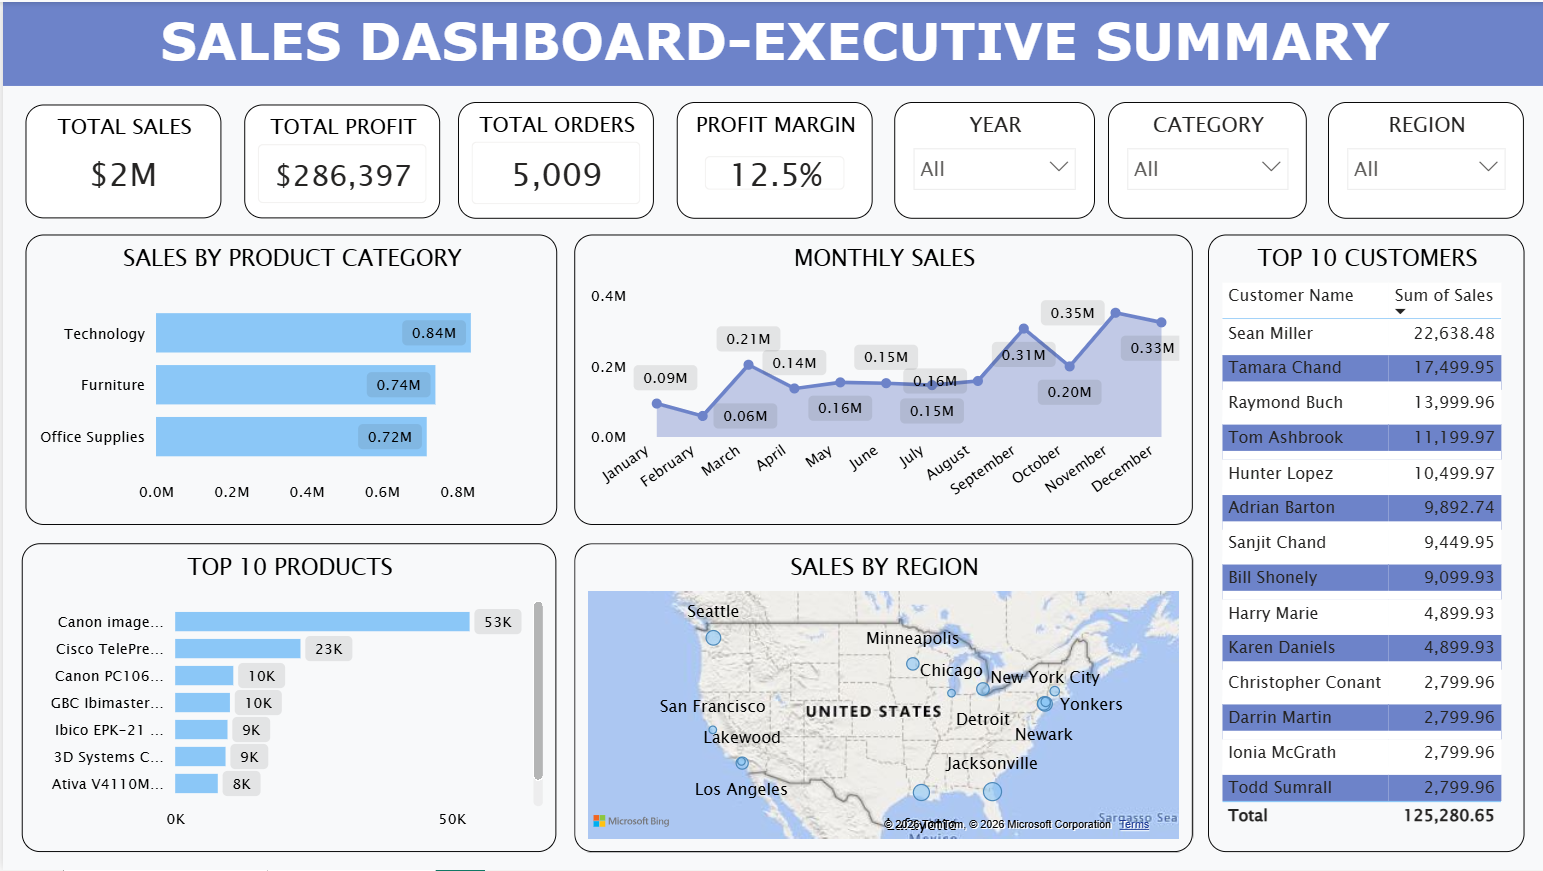

The dashboard page shown, as its layout file describes it:
{"tool":"powerbi","page":{"name":"EXECUTIVE SUMMARY","canvas":[1280,720],"ordinal":0},"visuals":[{"type":"textbox","box":[0,0,1280.2,69.8],"z":0},{"type":"barChart","title":"SALES BY PRODUCT CATEGORY","fields":{"Category":["Cleaned_Superstore.Category"],"Y":["Sum(Cleaned_Superstore.Sales)"]},"box":[18.6,193,440.7,240.7],"z":1000},{"type":"tableEx","title":"TOP 10 CUSTOMERS","fields":{"Values":["Cleaned_Superstore.Customer Name","Sum(Cleaned_Superstore.Sales)"]},"box":[998.8,193,262.8,511.6],"z":2000},{"type":"lineChart","title":"MONTHLY SALES","fields":{"Y":["Sum(Cleaned_Superstore.Sales)"],"Category":["Cleaned_Superstore.Order Date.Variation.Date Hierarchy.Month"]},"box":[473.3,193,512.8,240.7],"z":3000},{"type":"barChart","title":"TOP 10 PRODUCTS","fields":{"Y":["Sum(Cleaned_Superstore.Sales)"],"Category":["Cleaned_Superstore.Product Name"]},"box":[15.1,448.8,443,255.8],"z":4000},{"type":"map","title":"SALES BY REGION","fields":{"Size":["Sum(Cleaned_Superstore.Sales)"],"Category":["Cleaned_Superstore.City"]},"box":[473.3,448.8,512.8,255.8],"z":5000},{"type":"cardVisual","title":"TOTAL SALES","fields":{"Data":["Sum(Cleaned_Superstore.Sales)"]},"box":[18.6,84.9,162.8,94.2],"z":6000},{"type":"cardVisual","title":"TOTAL PROFIT","fields":{"Data":["Sum(Cleaned_Superstore.Profit)"]},"box":[200,84.9,162.8,94.2],"z":7000},{"type":"cardVisual","title":"TOTAL ORDERS","fields":{"Data":["Count(Cleaned_Superstore.Order ID)"]},"box":[376.7,82.6,162.8,96.5],"z":8000},{"type":"slicer","title":"CATEGORY","fields":{"Values":["Cleaned_Superstore.Category"]},"box":[916.3,82.6,165.1,96.5],"z":9000},{"type":"slicer","title":"YEAR","fields":{"Values":["Cleaned_Superstore.Region"]},"box":[738.4,82.6,166.3,96.5],"z":10000},{"type":"slicer","title":"REGION","fields":{"Values":["Cleaned_Superstore.Region"]},"box":[1098.8,82.6,162.8,96.5],"z":11000},{"type":"cardVisual","title":"PROFIT MARGIN","fields":{"Data":["Cleaned_Superstore.PROFIT_MAR"]},"box":[558.1,82.6,162.8,96.5],"z":12000}]}

Visuals, with their boxes in screenshot pixels (x1, y1, x2, y2), scaled from the page's 1280x720 canvas onto the 1543x871 screenshot:
textbox: 0:0:1542:84
"SALES BY PRODUCT CATEGORY" barChart: 22:233:554:525
"TOP 10 CUSTOMERS" tableEx: 1204:233:1521:852
"MONTHLY SALES" lineChart: 571:233:1189:525
"TOP 10 PRODUCTS" barChart: 18:543:552:852
"SALES BY REGION" map: 571:543:1189:852
"TOTAL SALES" cardVisual: 22:103:219:217
"TOTAL PROFIT" cardVisual: 241:103:437:217
"TOTAL ORDERS" cardVisual: 454:100:650:217
"CATEGORY" slicer: 1105:100:1304:217
"YEAR" slicer: 890:100:1091:217
"REGION" slicer: 1325:100:1521:217
"PROFIT MARGIN" cardVisual: 673:100:869:217
